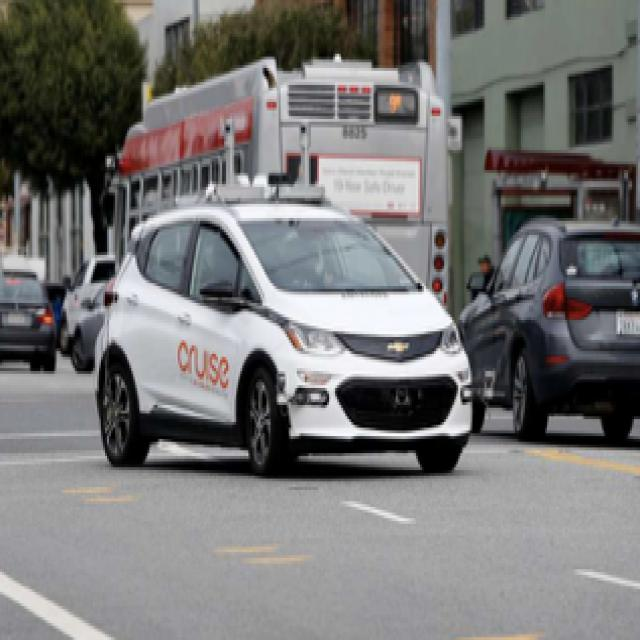license_plate: (614, 311, 640, 340)
